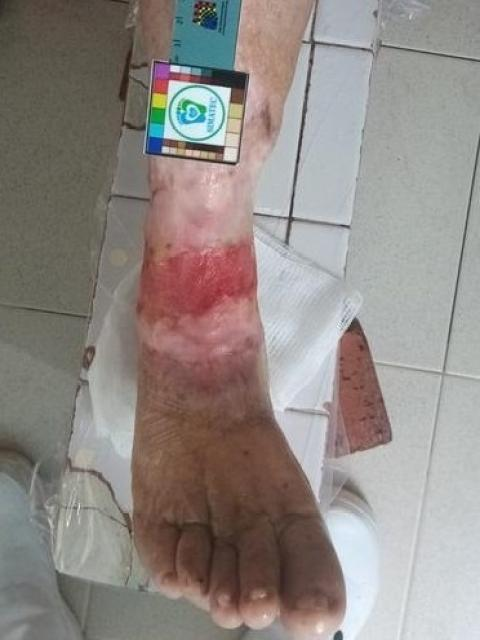wound: (139, 244, 254, 326)
